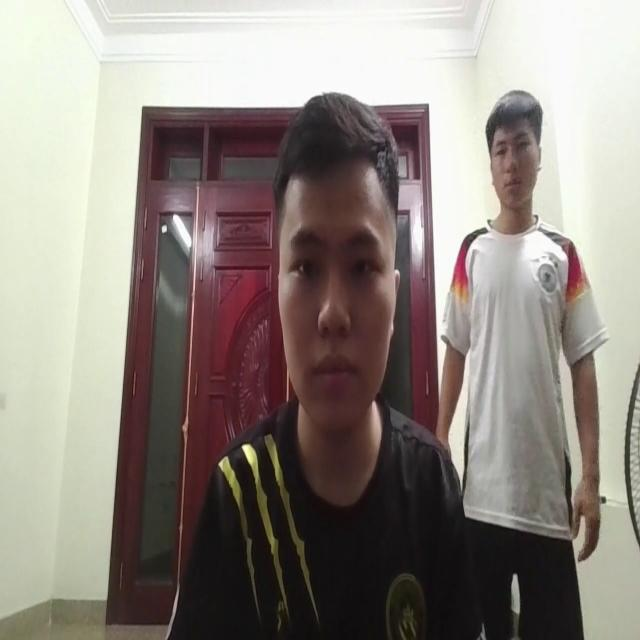extra_person: (436, 77, 606, 637)
student: (181, 90, 478, 640)
